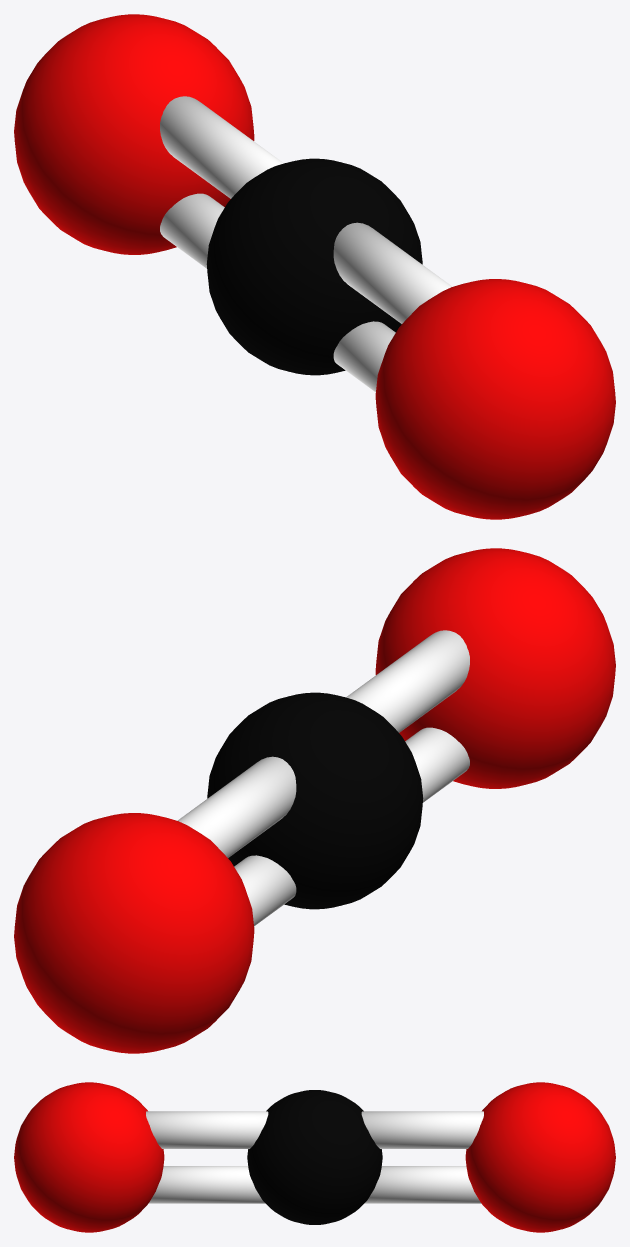
3 views of the same model, one above another, from view 1: azimuth 30°, elevation 25°; view 2: azimuth 150°, elevation 25°; view 3: azimuth 270°, elevation 25° (orthographic). The views are drawn at different scales.
Visible parts, largest first — view 1: o1; view 2: o1; view 3: o1.
Boxes of the visible parts, left/top/right/bottom form: o1: left=14, top=14, right=615, bottom=519; o1: left=14, top=548, right=615, bottom=1053; o1: left=14, top=1082, right=615, bottom=1232.
Bounding box in the file's own units: 200 × 200 × 800.
